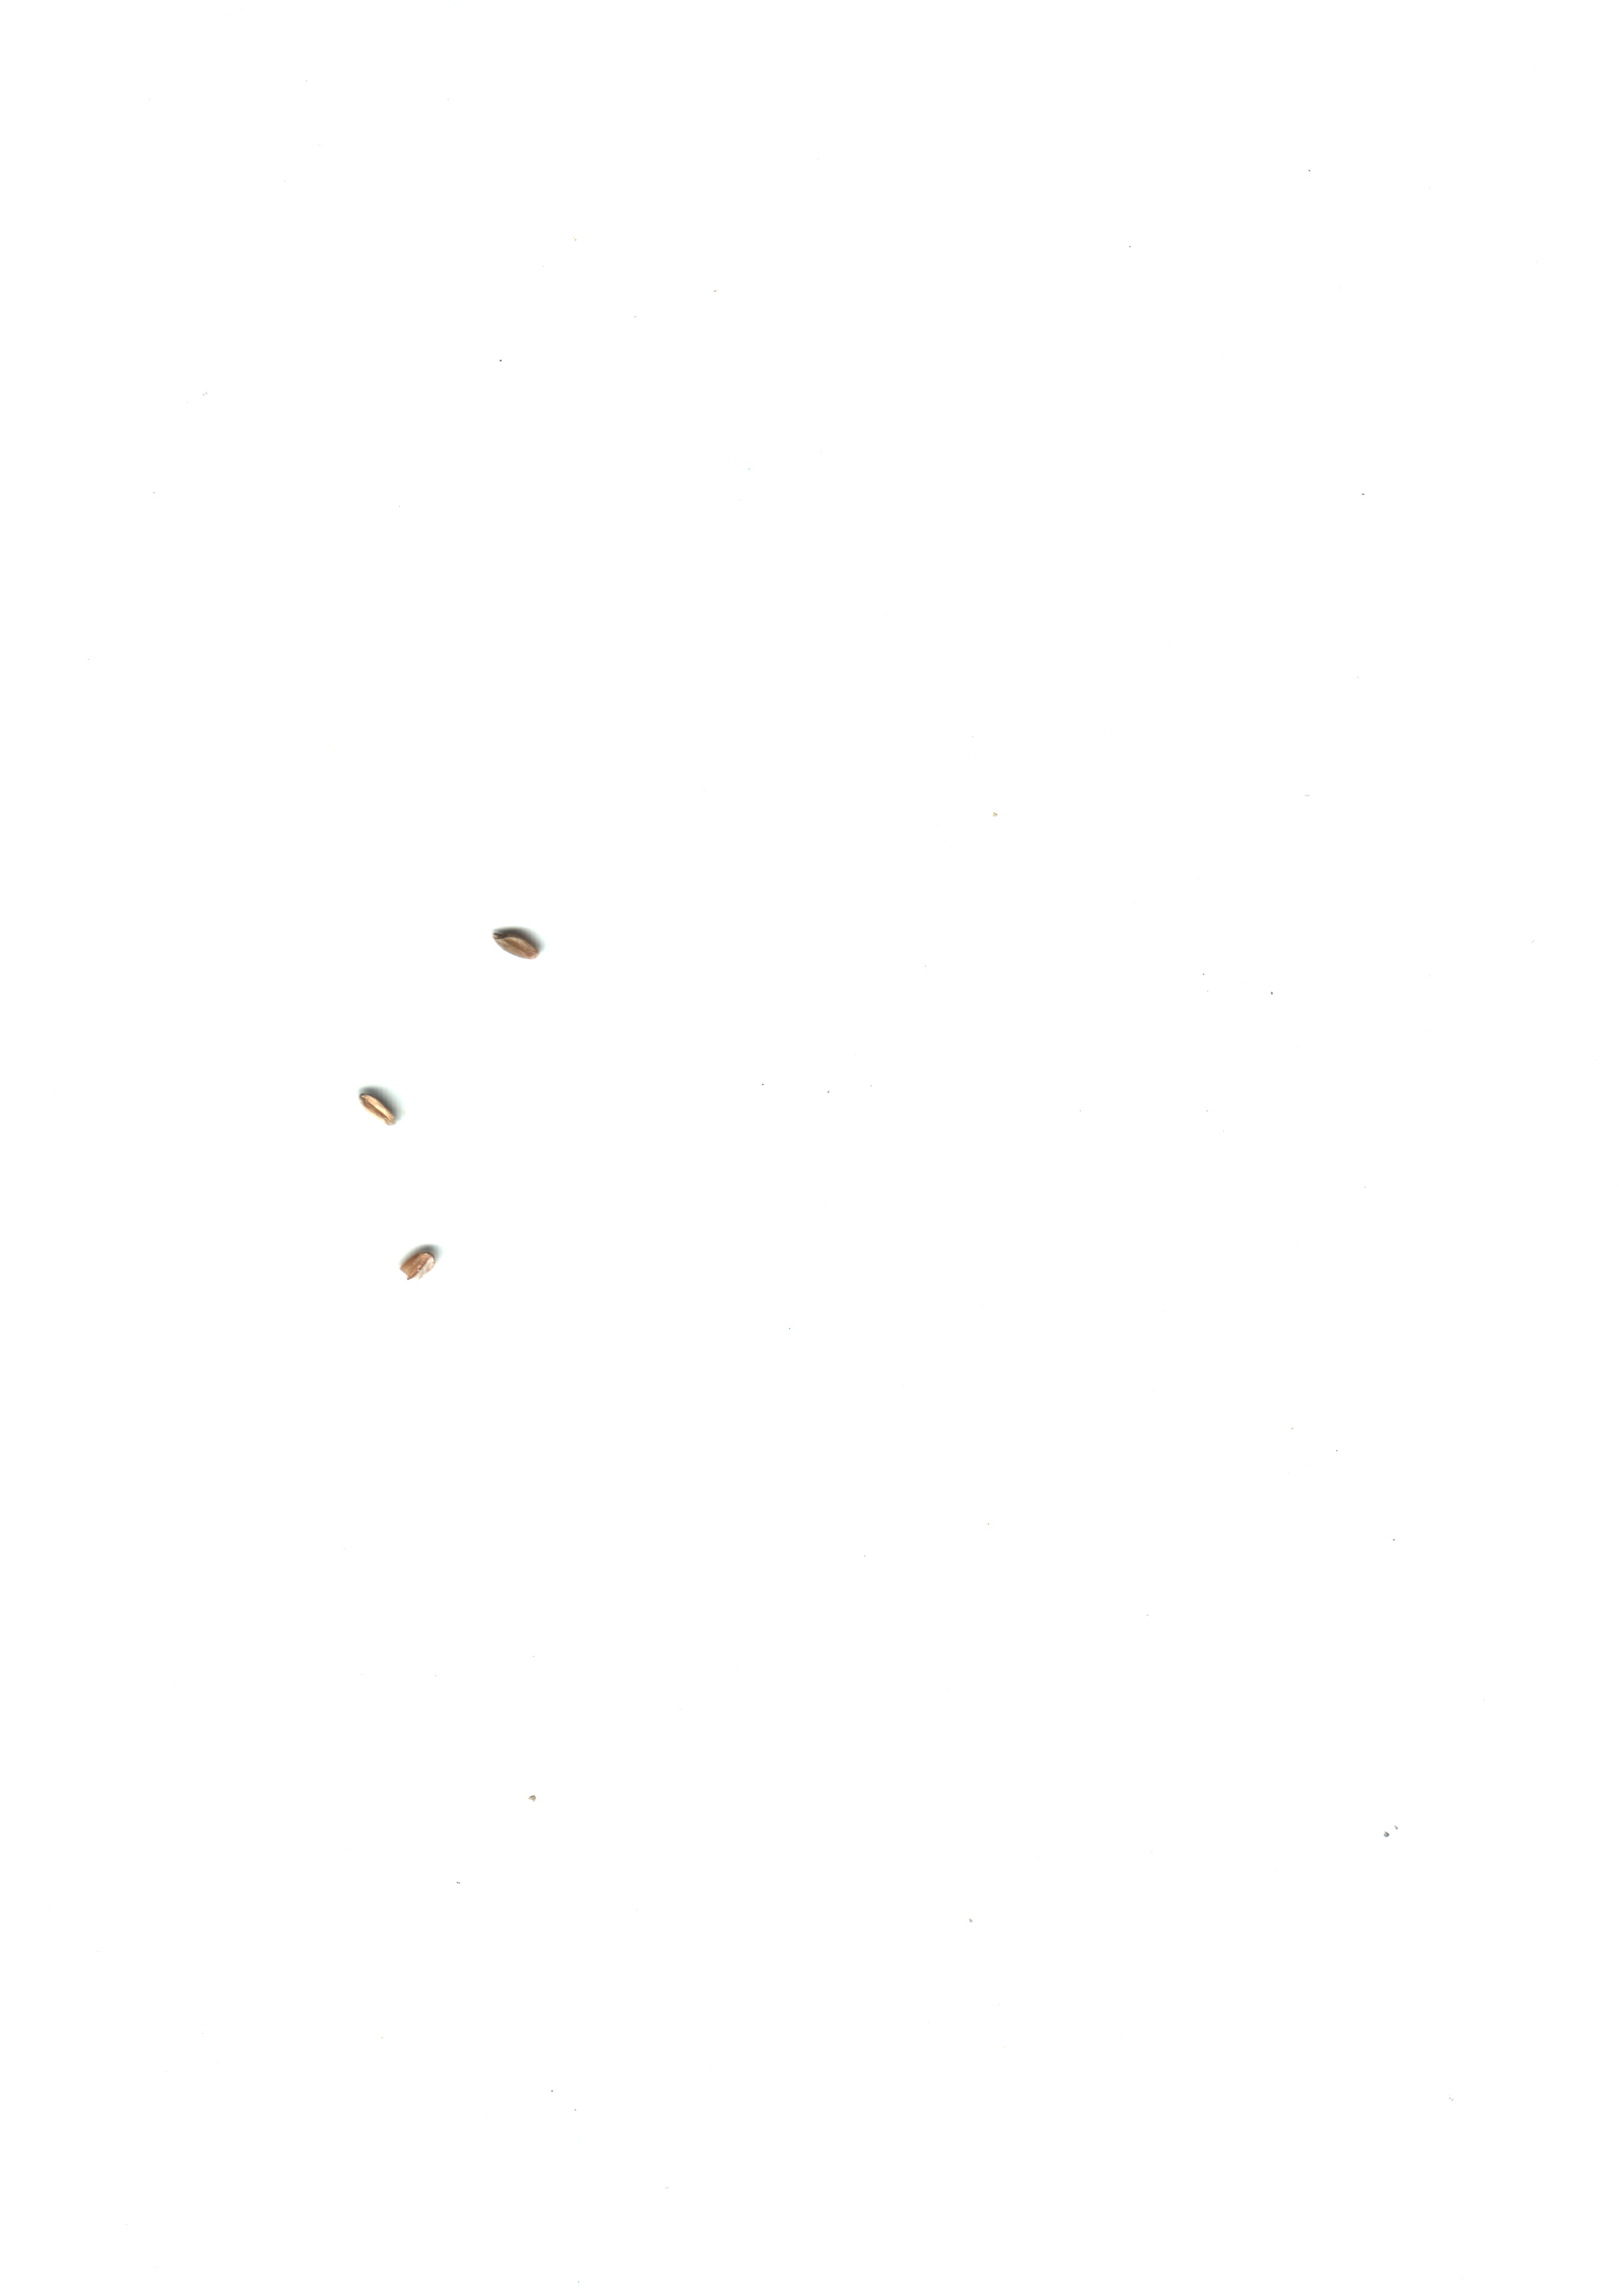grains_2mm: (385, 1225, 468, 1304), (340, 1069, 421, 1148), (480, 908, 561, 987)
